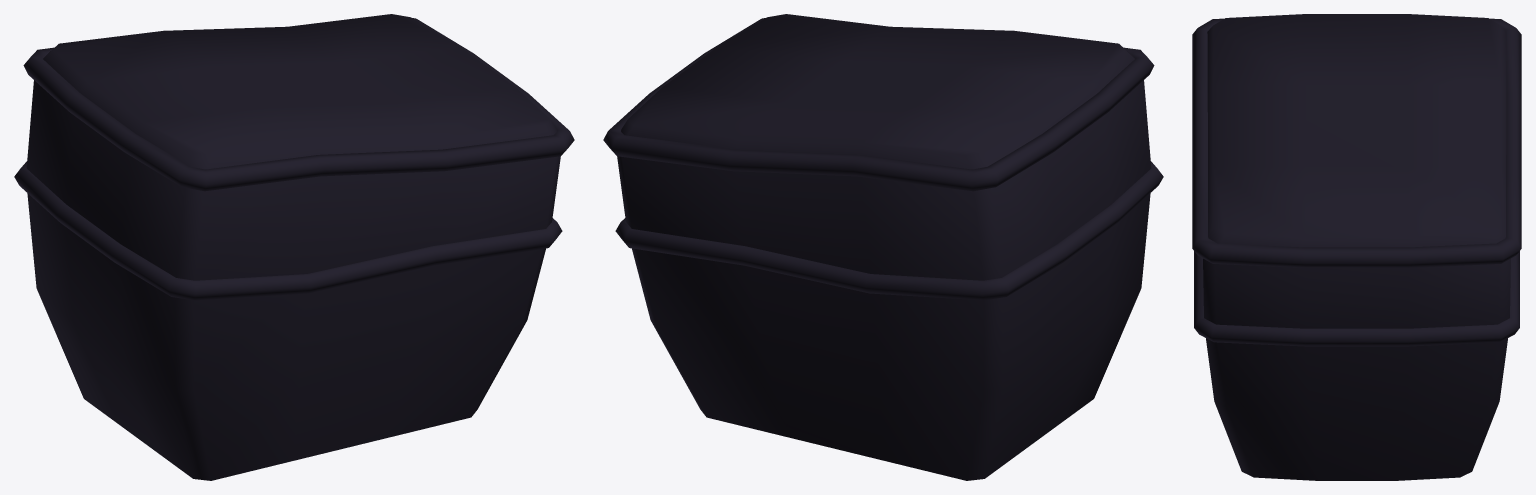
File: Back_Bldg01_Mesh.FBX
The picture shows the model from 3 angles, left to right: view 1: azimuth 30°, elevation 25°; view 2: azimuth 150°, elevation 25°; view 3: azimuth 270°, elevation 25°; orthographic projection. The views are drawn at different scales.
Visible parts, largest first — view 1: Back_Bldg01_Mesh; view 2: Back_Bldg01_Mesh; view 3: Back_Bldg01_Mesh.
Part boxes in pixels (x1,y1,x2,y2): Back_Bldg01_Mesh: (14, 14, 574, 480); Back_Bldg01_Mesh: (603, 14, 1163, 480); Back_Bldg01_Mesh: (1192, 14, 1521, 480).
Bounding box in the file's own units: 4454 × 3459 × 3200.
